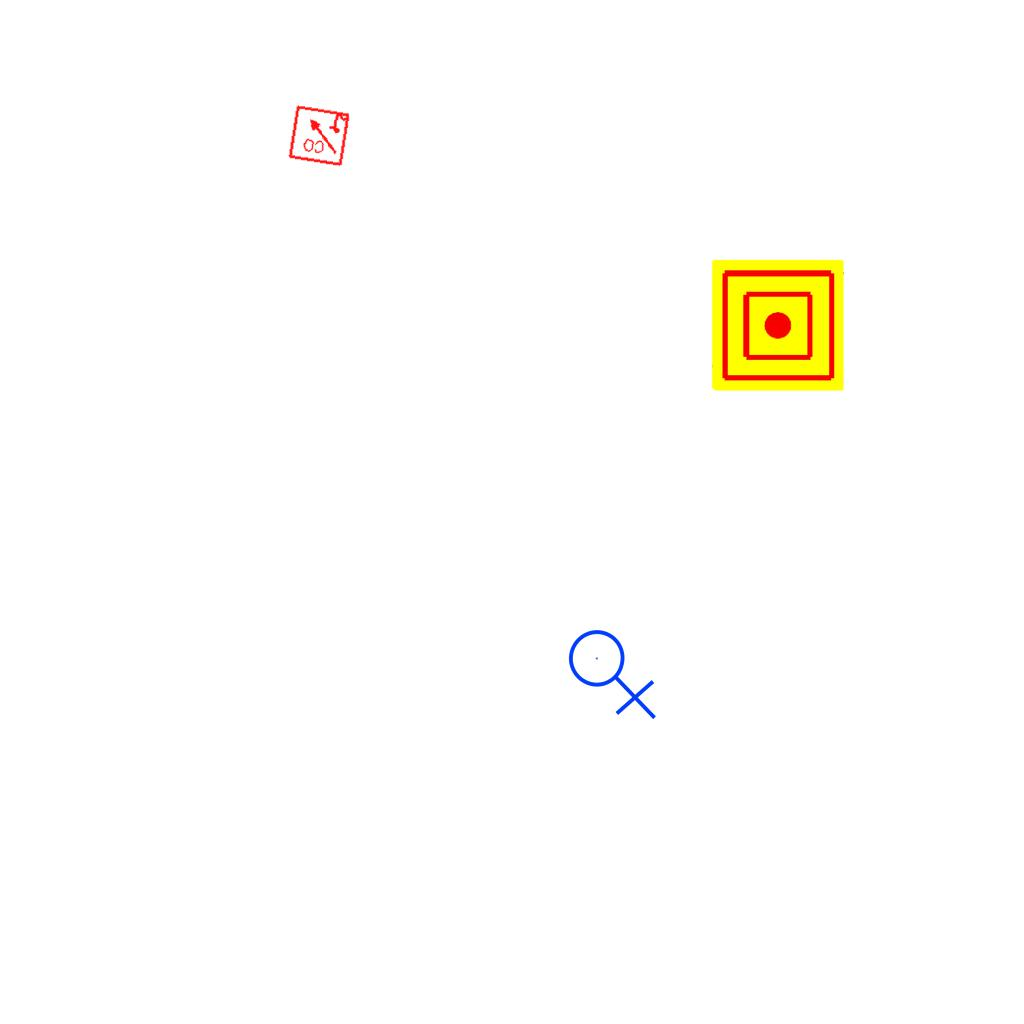Elektroanschluss_allgemein_230V_Geraeteanschlussdose_230V: (567, 621, 661, 720)
NAM-Nichtautomatischer_Melder: (712, 259, 844, 391)
ROA_Rauchmelder_optisch_mit_Signalgeber_(Sockelsirene): (286, 102, 352, 168)
